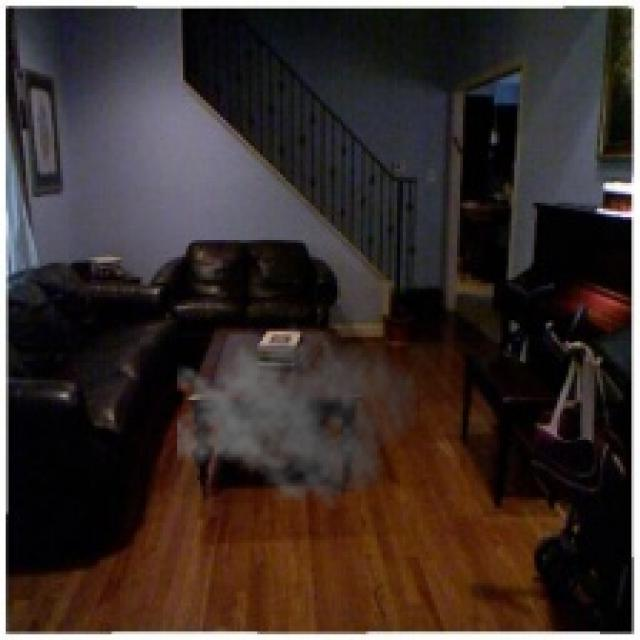Smoke: (177, 312, 420, 512)
